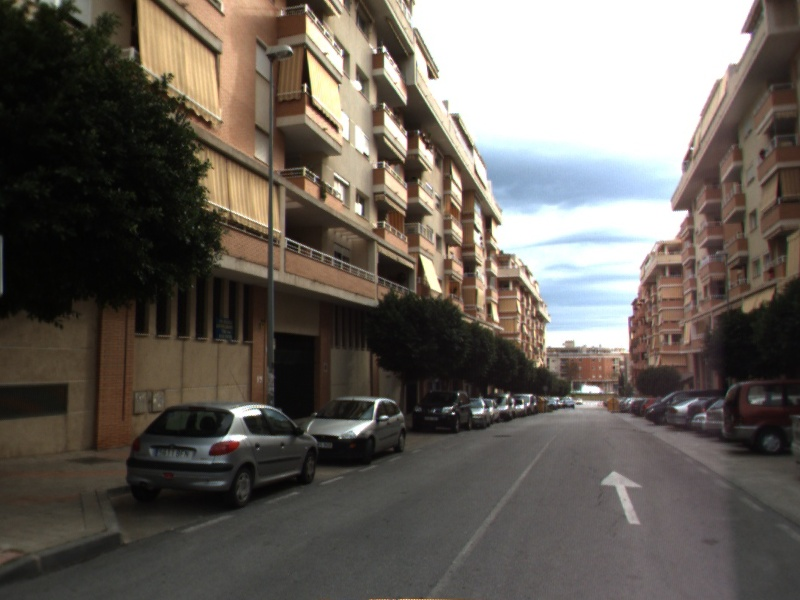STRAIGHT: (596, 469, 645, 526)
